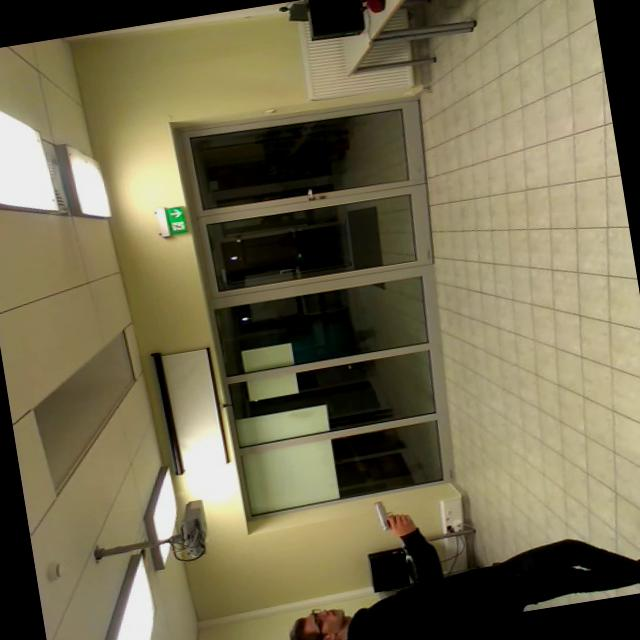handgun: (366, 486, 424, 538)
